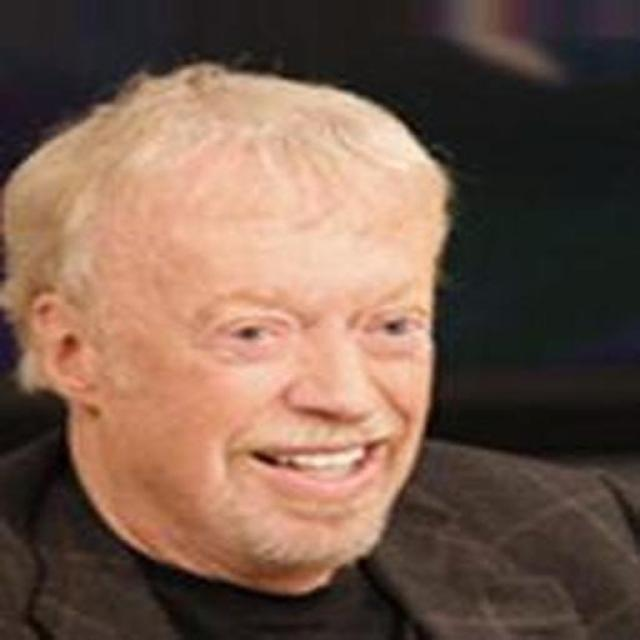bareface: (44, 80, 450, 547)
